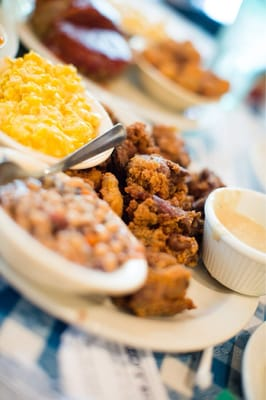salad: (1, 123, 126, 182)
sushi: (201, 186, 266, 298)
